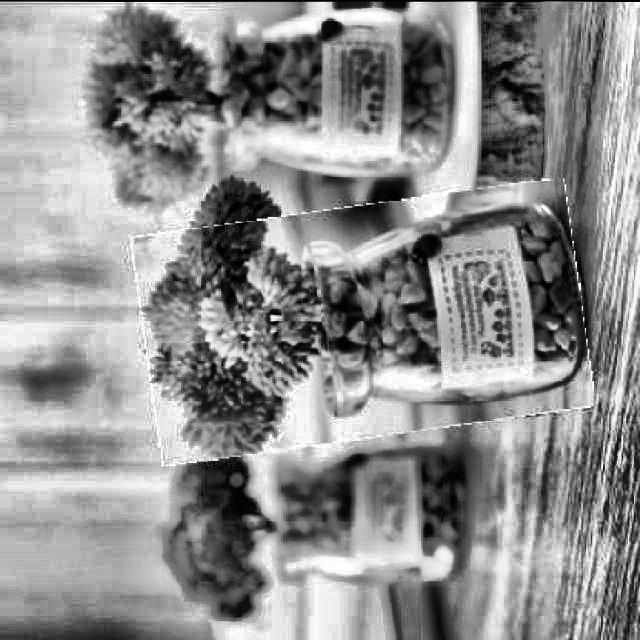plants: (137, 190, 588, 450)
